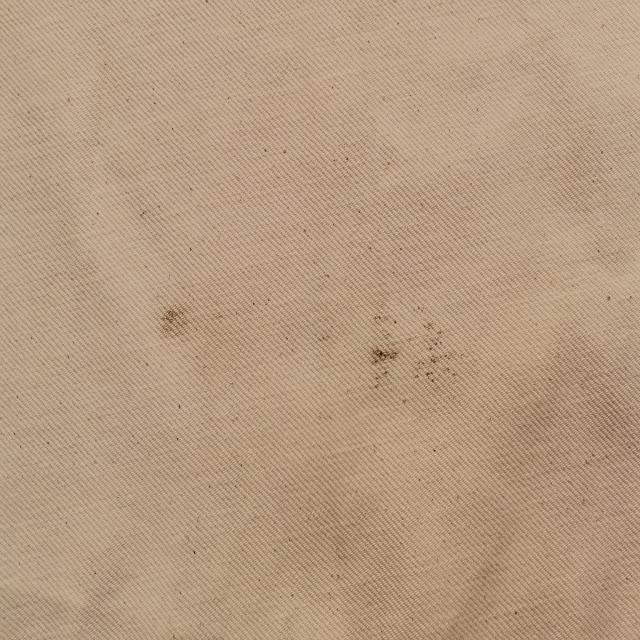taaaches: (363, 298, 464, 422), (152, 287, 195, 359)
